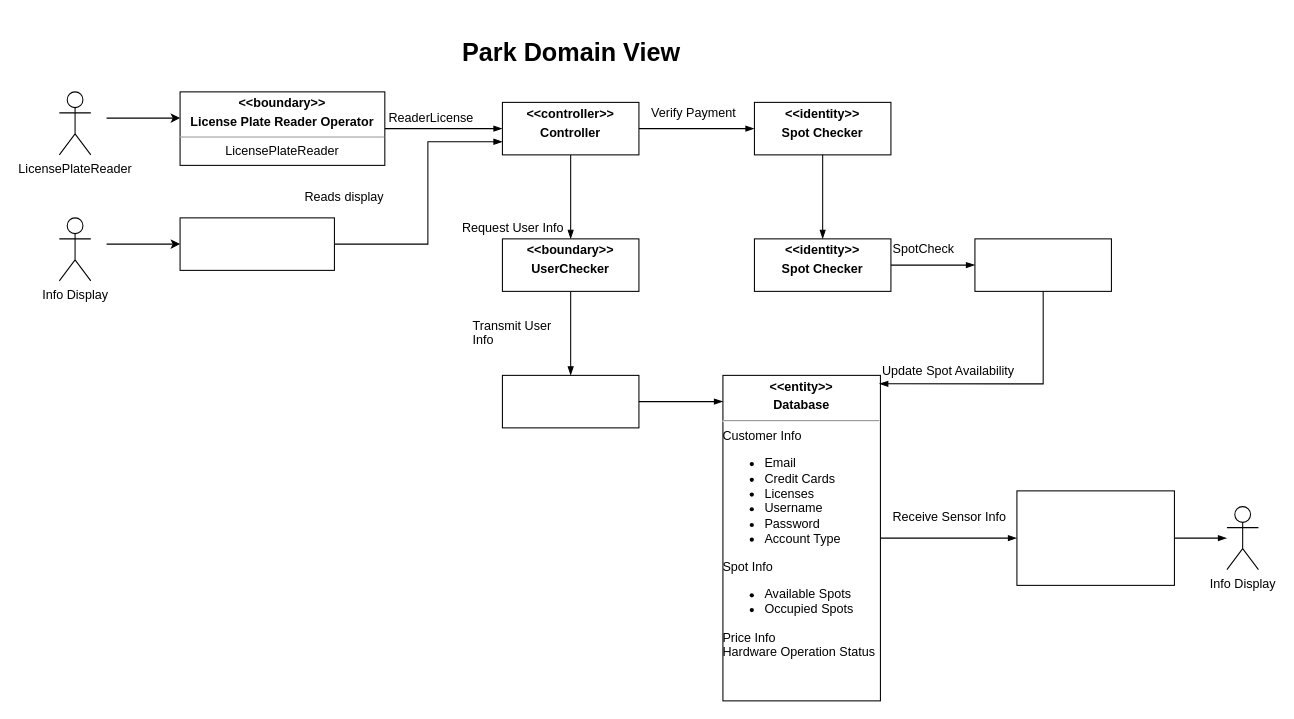
Some shapes in this 1294 by 719 pixel diagram are drawn without their labels. Here are the shapes that lost their labels. From the top down, the centre of each, then its label:
At [256,243]: "<<boundary>> Info Display Operator".
At [1042,264]: "<<entity>> Spotkey".
At [570,401]: "<<entity>> UserKey".
At [1095,537]: "<<boundary>> SensorOperation On/Off status".
